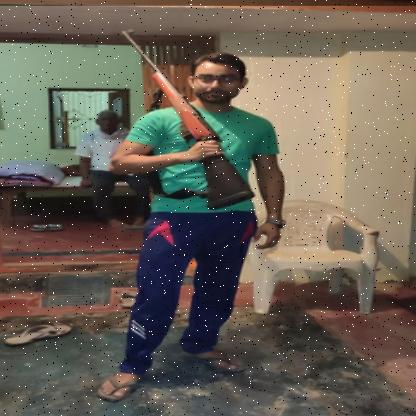rifle: (119, 28, 259, 213)
